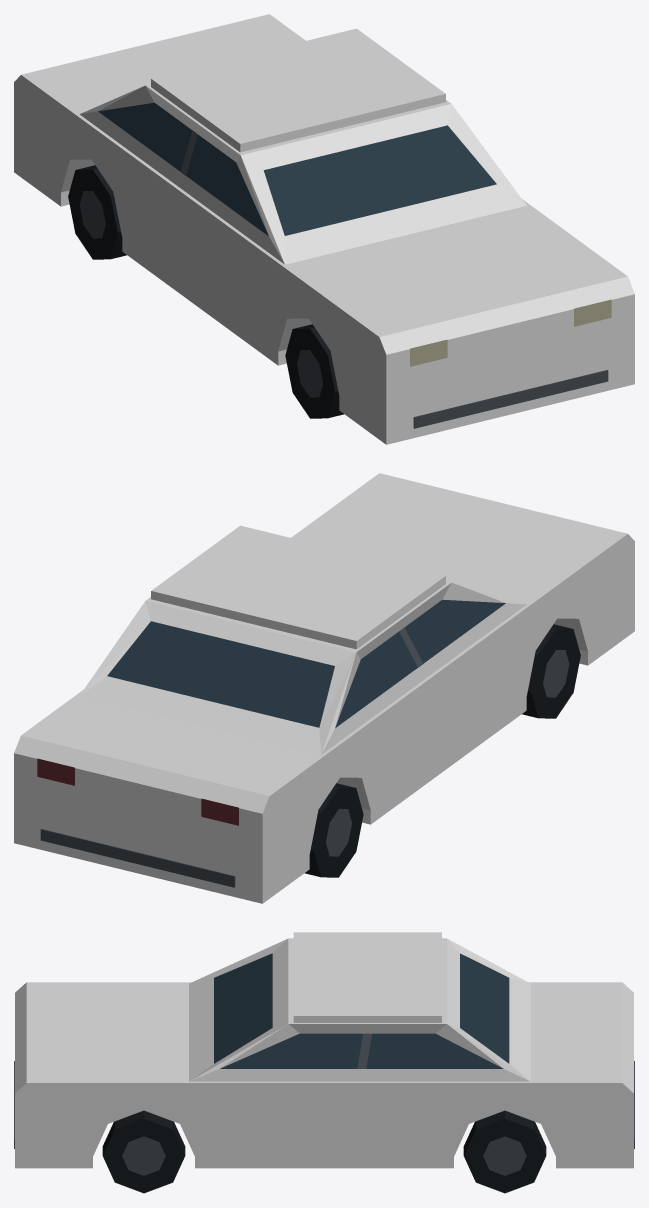
File: sedan.glb
The picture shows the model from 3 angles, top to bottom: view 1: azimuth 30°, elevation 25°; view 2: azimuth 150°, elevation 25°; view 3: azimuth 270°, elevation 25°; orthographic projection. The views are drawn at different scales.
Parts seen in each view (by area): view 1: vehicle_body; view 2: vehicle_body; view 3: vehicle_body.
Boxes of the visible parts, x1,y1,x2,y2 form: vehicle_body: (14, 14, 634, 444); vehicle_body: (14, 473, 634, 903); vehicle_body: (14, 932, 634, 1193).
Size of the model in its own units: 1.85 by 1.45 by 4.82.
